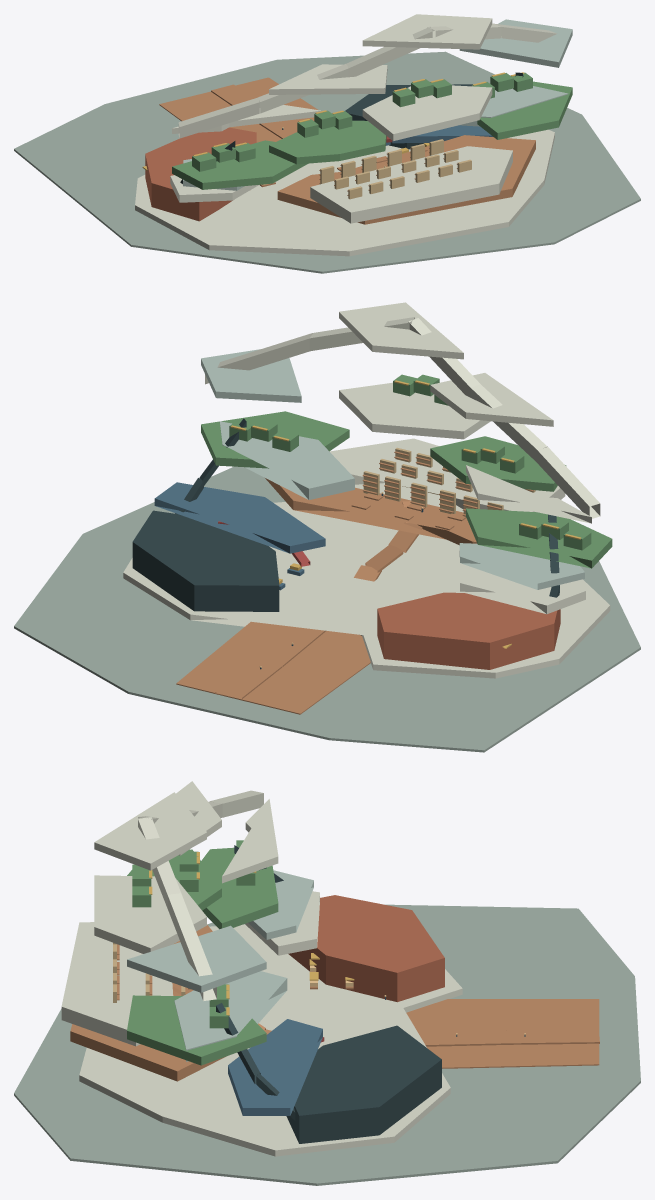
The model's file is a52_inhabited_relief.obj.
3 views of the same model, one above another, from view 1: azimuth 30°, elevation 25°; view 2: azimuth 150°, elevation 25°; view 3: azimuth 270°, elevation 25° (orthographic). The views are drawn at different scales.
Bounding box in the file's own units: 224 × 87.7 × 211.
